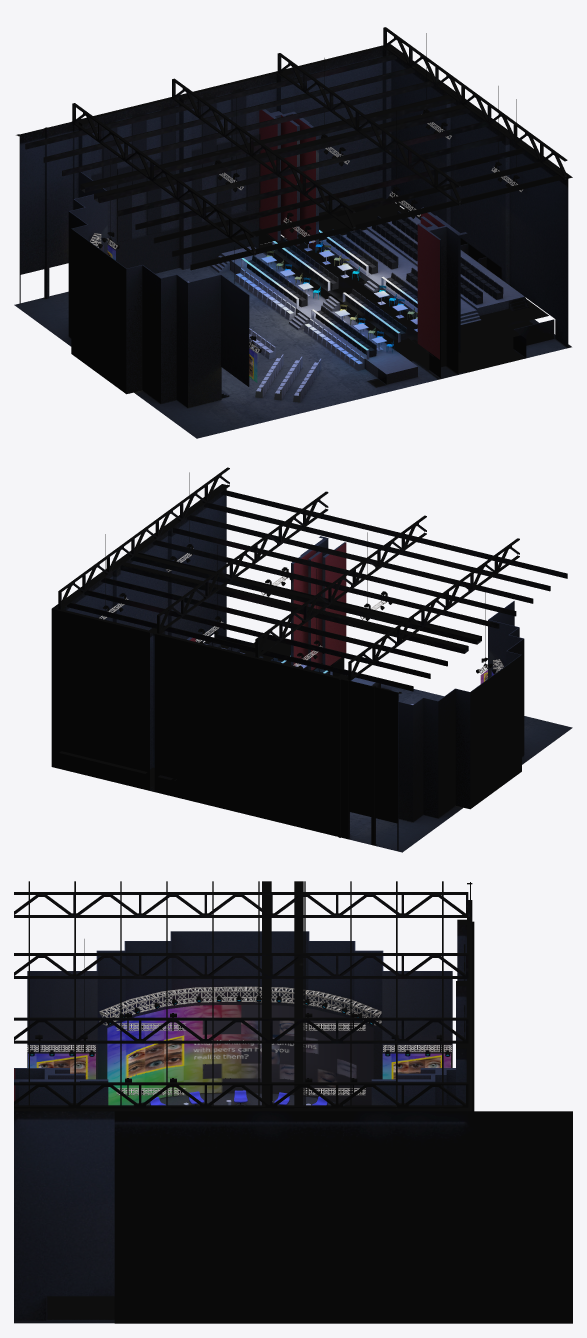
File: Forum_BAKED.fbx
The picture shows the model from 3 angles, top to bottom: view 1: azimuth 30°, elevation 25°; view 2: azimuth 150°, elevation 25°; view 3: azimuth 270°, elevation 25°; orthographic projection. The views are drawn at different scales.
Visible parts, largest first — view 1: Forum_Rear_wall, Forum_Rafters, Forum_Main_Stage, Forum_Floor, Forum_stage, Forum_Stage_and_Walls, Forum_wall_panels, Forum_Upper_Benches, Forum_Lower_Benches, Forum_Lights_1, Forum_Tables, Forum_Chairs (+1 smaller); view 2: Forum_Rear_wall, Forum_Rafters, Forum_Main_Stage, Forum_Floor, Forum_Stage_and_Walls, Forum_stage, Forum_Lights_1, Forum_light_truss; view 3: Forum_Rear_wall, Forum_Rafters, Forum_Main_Stage, Forum_Screens_1, Forum_light_truss, Forum_Stage_and_Walls, Forum_Floor, Forum_Lights_1, Forum_Screens_2, Forum_Screens_3, Forum_Lower_Benches.
Boxes of the visible parts, <box> form: Forum_Rear_wall: <box>16,44,572,347</box>; Forum_Rafters: <box>25,27,567,270</box>; Forum_Main_Stage: <box>68,172,249,407</box>; Forum_Floor: <box>14,238,571,438</box>; Forum_stage: <box>210,197,554,384</box>; Forum_Stage_and_Walls: <box>259,109,467,377</box>; Forum_wall_panels: <box>91,92,260,273</box>; Forum_Upper_Benches: <box>247,211,503,357</box>; Forum_Lower_Benches: <box>188,268,364,402</box>; Forum_Lights_1: <box>98,33,519,352</box>; Forum_Tables: <box>261,240,417,350</box>; Forum_Chairs: <box>266,240,417,352</box>; Forum_Rear_wall: <box>51,484,401,850</box>; Forum_Rafters: <box>58,467,567,691</box>; Forum_Main_Stage: <box>398,601,524,821</box>; Forum_Floor: <box>52,666,572,852</box>; Forum_Stage_and_Walls: <box>187,536,346,676</box>; Forum_stage: <box>59,634,380,780</box>; Forum_Lights_1: <box>102,472,496,673</box>; Forum_light_truss: <box>99,548,503,673</box>; Forum_Rear_wall: <box>14,882,572,1323</box>; Forum_Rafters: <box>14,881,468,1108</box>; Forum_Main_Stage: <box>27,931,452,1105</box>; Forum_Screens_1: <box>107,1005,373,1105</box>; Forum_light_truss: <box>27,986,451,1095</box>; Forum_Stage_and_Walls: <box>14,1068,455,1105</box>; Forum_Floor: <box>14,1296,114,1323</box>; Forum_Lights_1: <box>30,939,450,1095</box>; Forum_Screens_2: <box>382,1053,450,1079</box>; Forum_Screens_3: <box>28,1053,95,1079</box>; Forum_Lower_Benches: <box>149,1090,327,1105</box>.
Size of the model in its own units: 2937 by 2919 by 1586.
